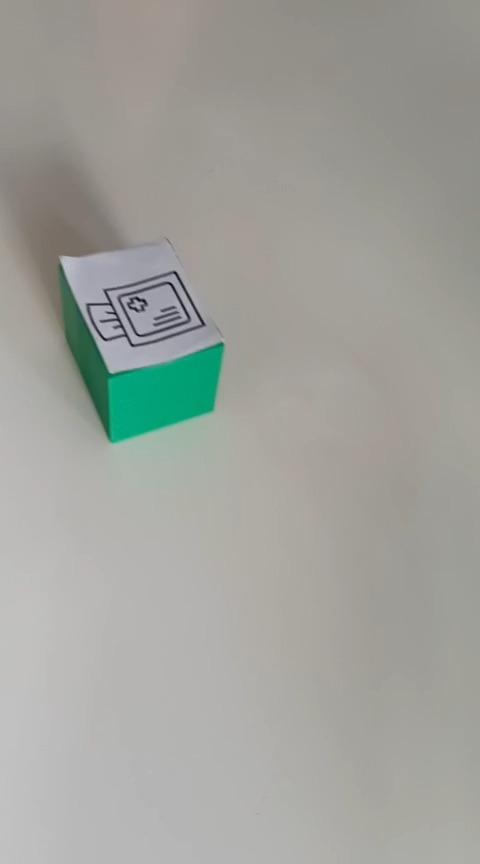Gauze: (55, 235, 226, 443)
